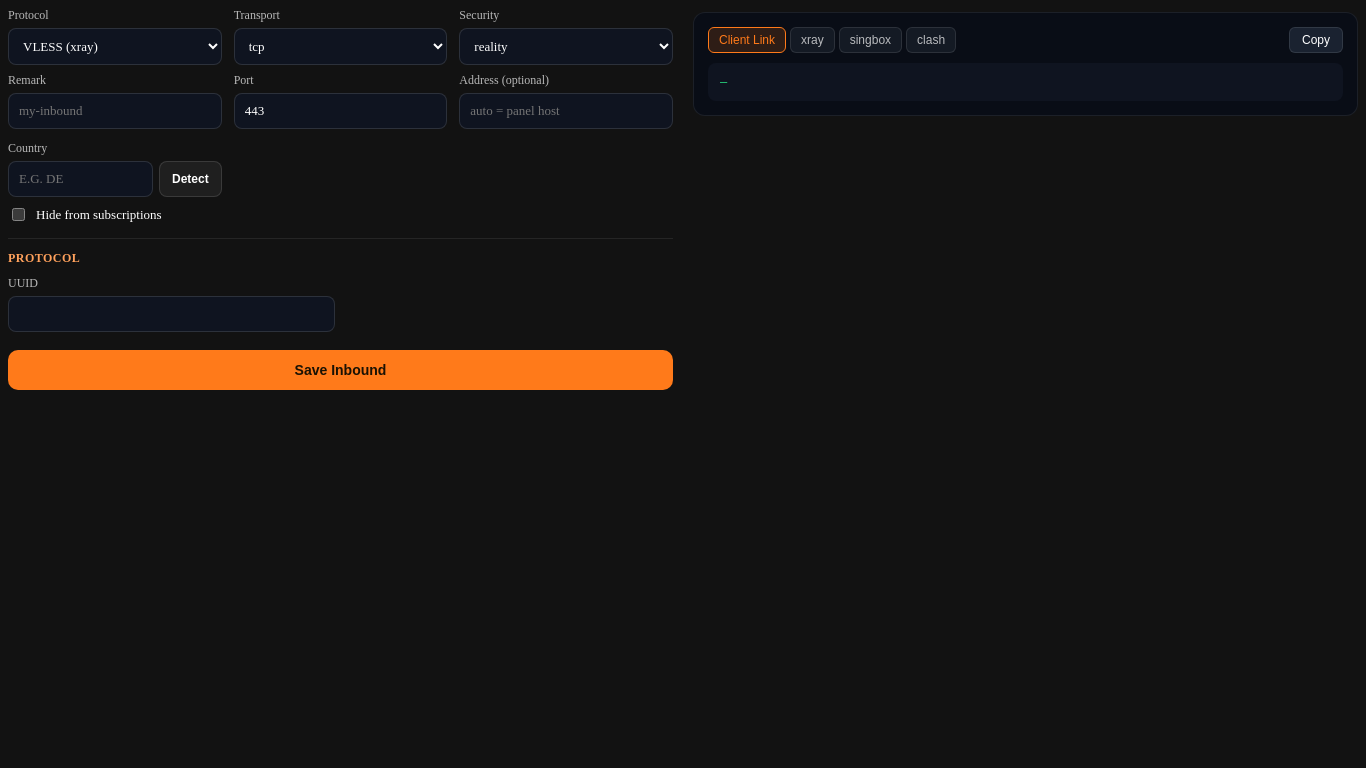
Scenario: InboundForm protocol switch › puts the previous protocol back when the switch is undone
This screenshot has width=1366, height=768.
Select "Hysteria2 (sing-box)" in the dropdown with test id "proto-select": (115, 46) [8,28,222,65]
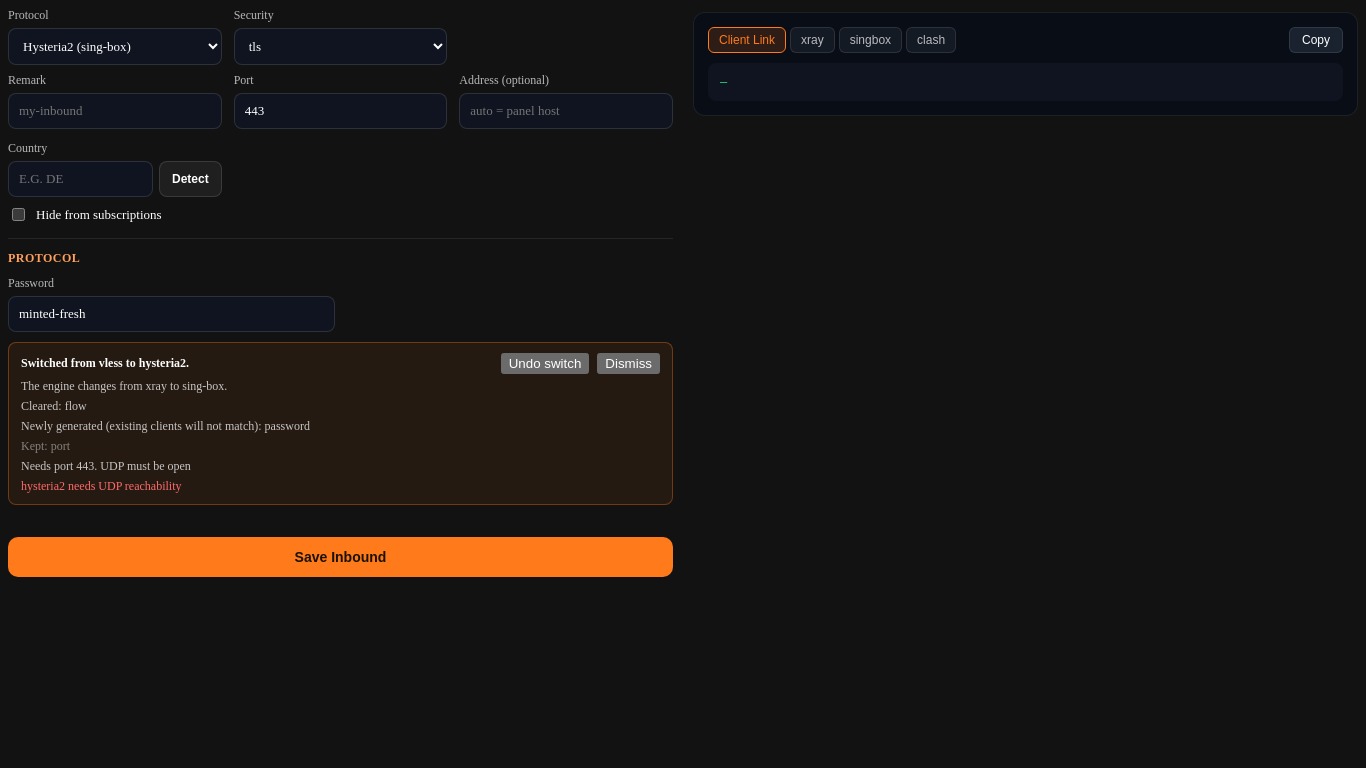
Expected: the element with test id "switch-summary" is shown, [8,342,673,505]
Click the button with test id "switch-undo": (545, 364) [501,353,589,374]
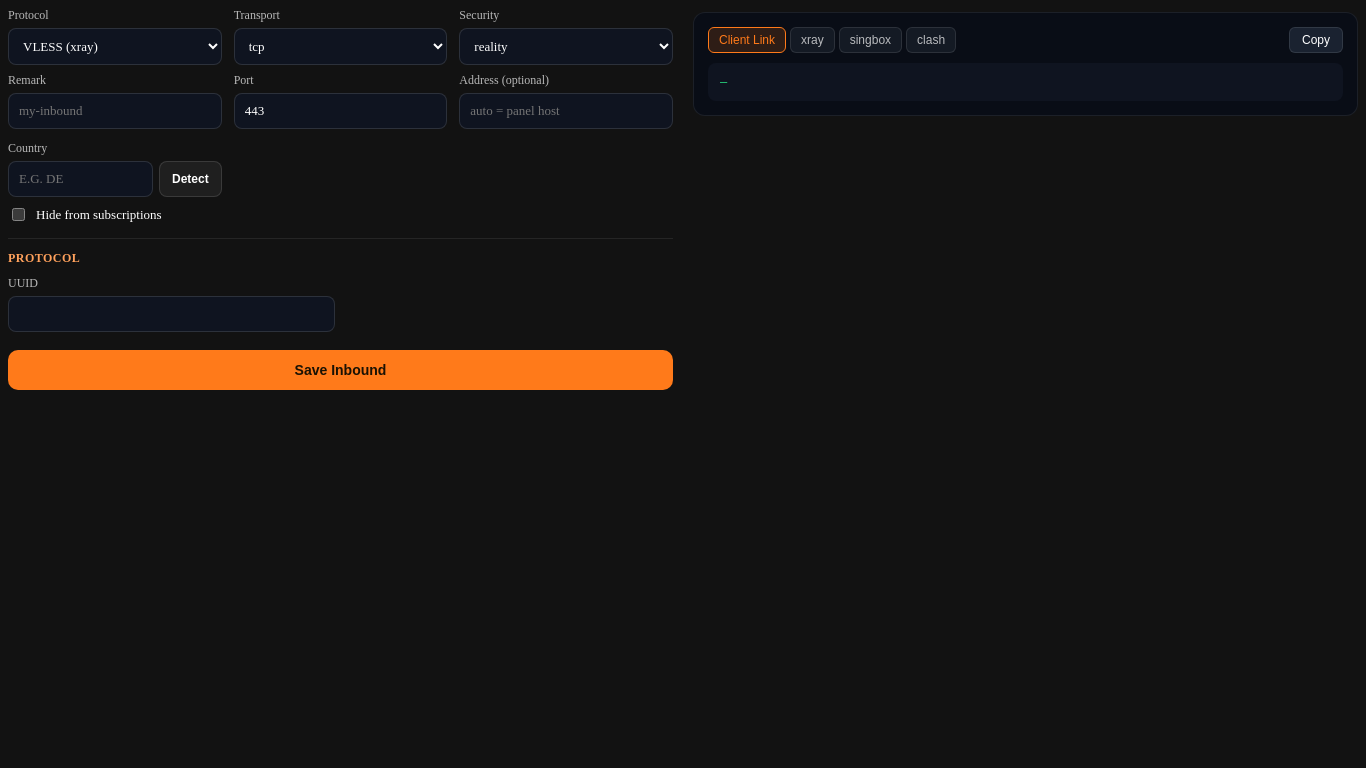
Expected: the element with test id "switch-summary" is gone
